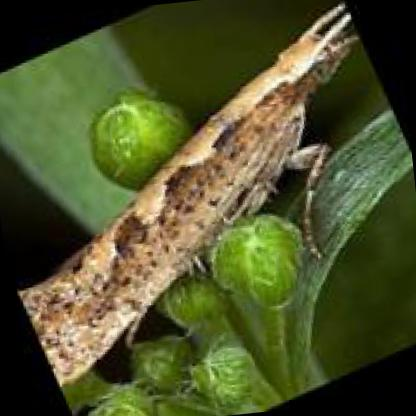plutella: (12, 0, 363, 394)
